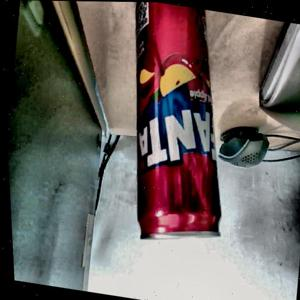non-defect: (0, 0, 300, 300)
